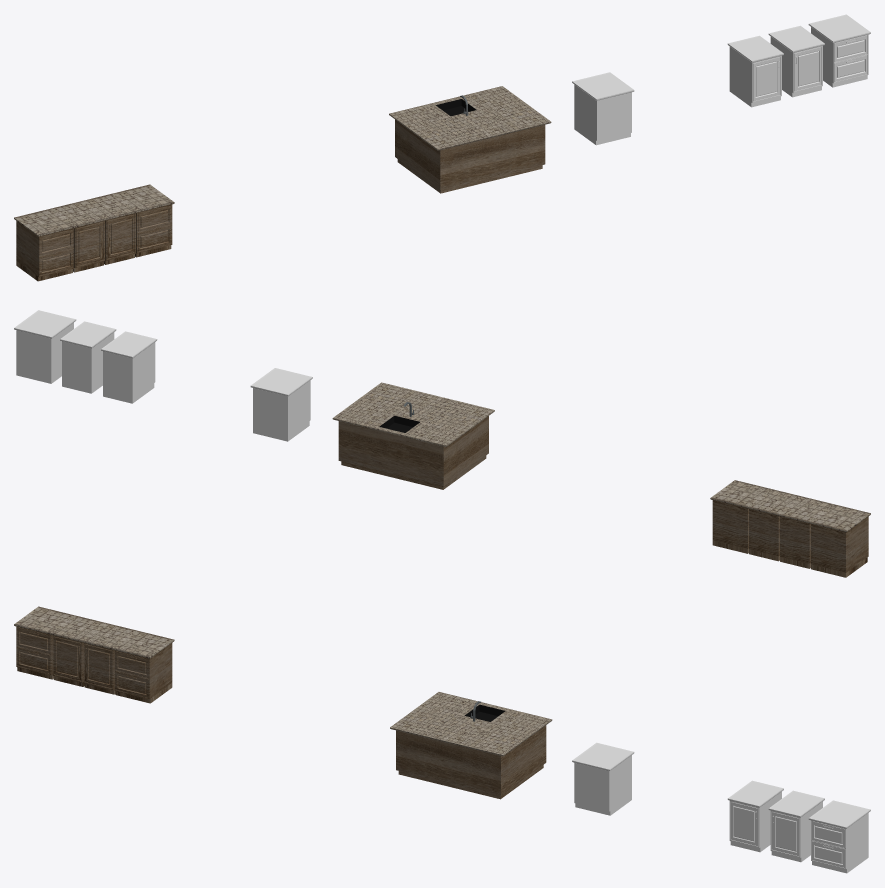
Rendered from KitchenPack.fbx.
3 renders of one model, top to bottom at view 1: azimuth 30°, elevation 25°; view 2: azimuth 150°, elevation 25°; view 3: azimuth 330°, elevation 25°, orthographic.
Parts seen in each view (by area): view 1: Cube.008, Cube.007, Cube.001, Cube.003, Cube, Cube.002, Cube.004, Cube.005, Cube.006; view 2: Cube.008, Cube.001, Cube.007, Cube.003, Cube, Cube.002, Cube.004, Cube.005, Cube.006; view 3: Cube.008, Cube.004, Cube, Cube.001, Cube.003, Cube.002, Cube.007, Cube.005, Cube.006.
Part boxes in pixels (x1,y1,x2,y2): Cube.008: (389, 86, 551, 193); Cube.007: (14, 208, 76, 281); Cube.001: (572, 72, 634, 145); Cube.003: (727, 35, 783, 107); Cube: (808, 14, 870, 87); Cube.002: (768, 25, 824, 97); Cube.004: (112, 184, 174, 257); Cube.005: (82, 193, 137, 264); Cube.006: (51, 201, 106, 272); Cube.008: (332, 382, 494, 489); Cube.001: (250, 368, 312, 441); Cube.007: (809, 504, 870, 577); Cube.003: (101, 331, 157, 403); Cube: (14, 310, 76, 383); Cube.002: (60, 321, 116, 393); Cube.004: (710, 480, 772, 553); Cube.005: (747, 489, 802, 561); Cube.006: (778, 496, 833, 568); Cube.008: (390, 692, 552, 799); Cube.004: (112, 630, 174, 703); Cube: (808, 800, 870, 873); Cube.001: (572, 742, 634, 815); Cube.003: (727, 780, 783, 852); Cube.002: (768, 790, 824, 862); Cube.007: (14, 606, 75, 679); Cube.005: (81, 623, 136, 694); Cube.006: (50, 615, 106, 686).
Bounding box in the file's own units: 5309 × 390 × 540.
